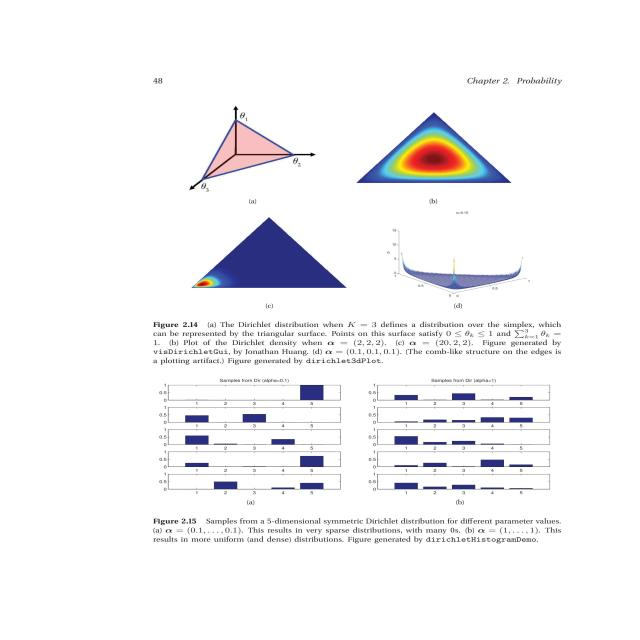diagram: (130, 66, 570, 314), (144, 376, 565, 564)
